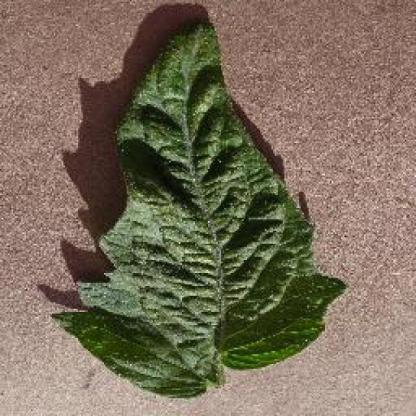Tomato_Spider_Mites: (53, 23, 342, 395)
